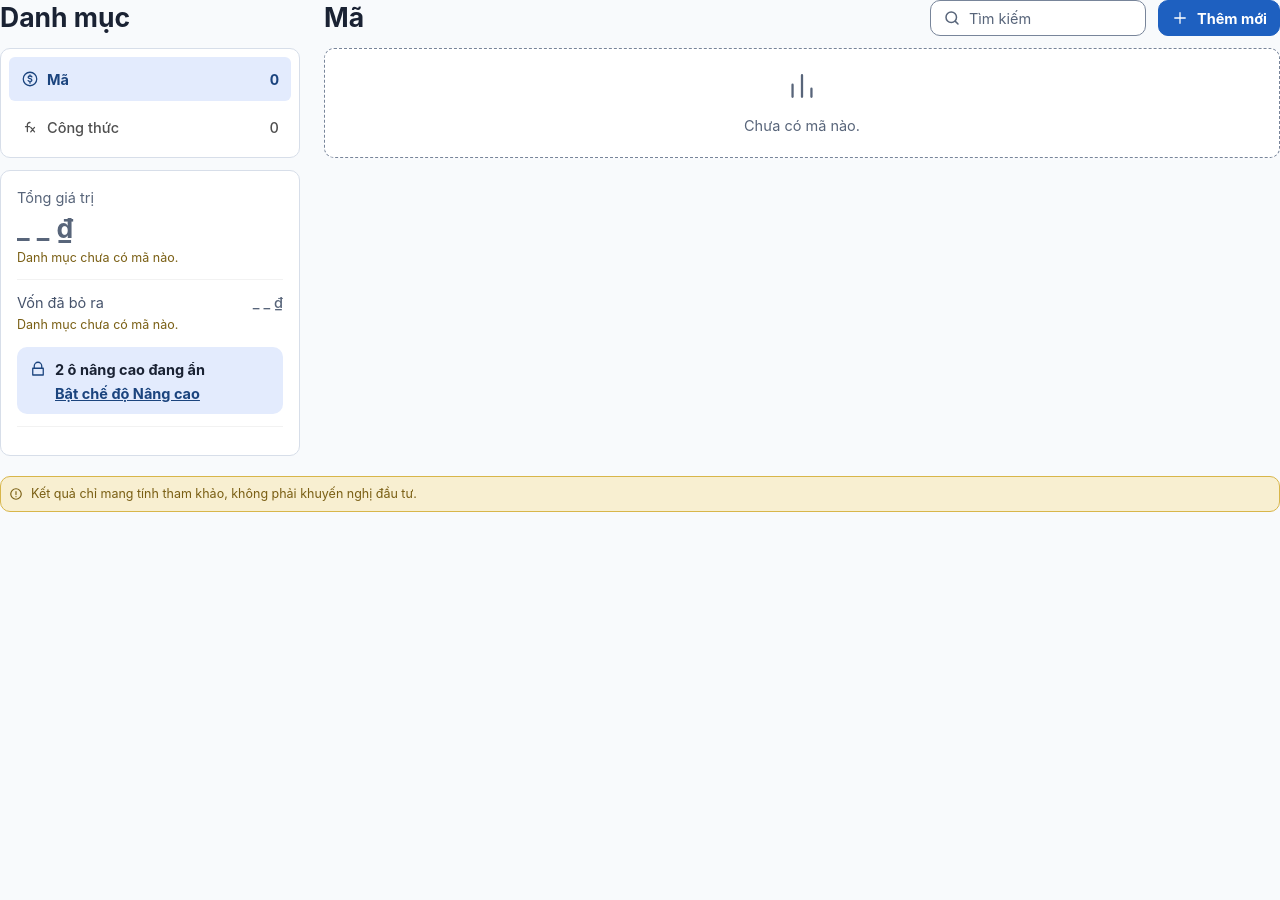
Test: WF-06 — chọn mã trong toàn thị trường › ô chọn mã mở sheet và nhận mã đã chọn
Click the button "Thêm mới" at (1219, 18), box [1158, 0, 1279, 36]
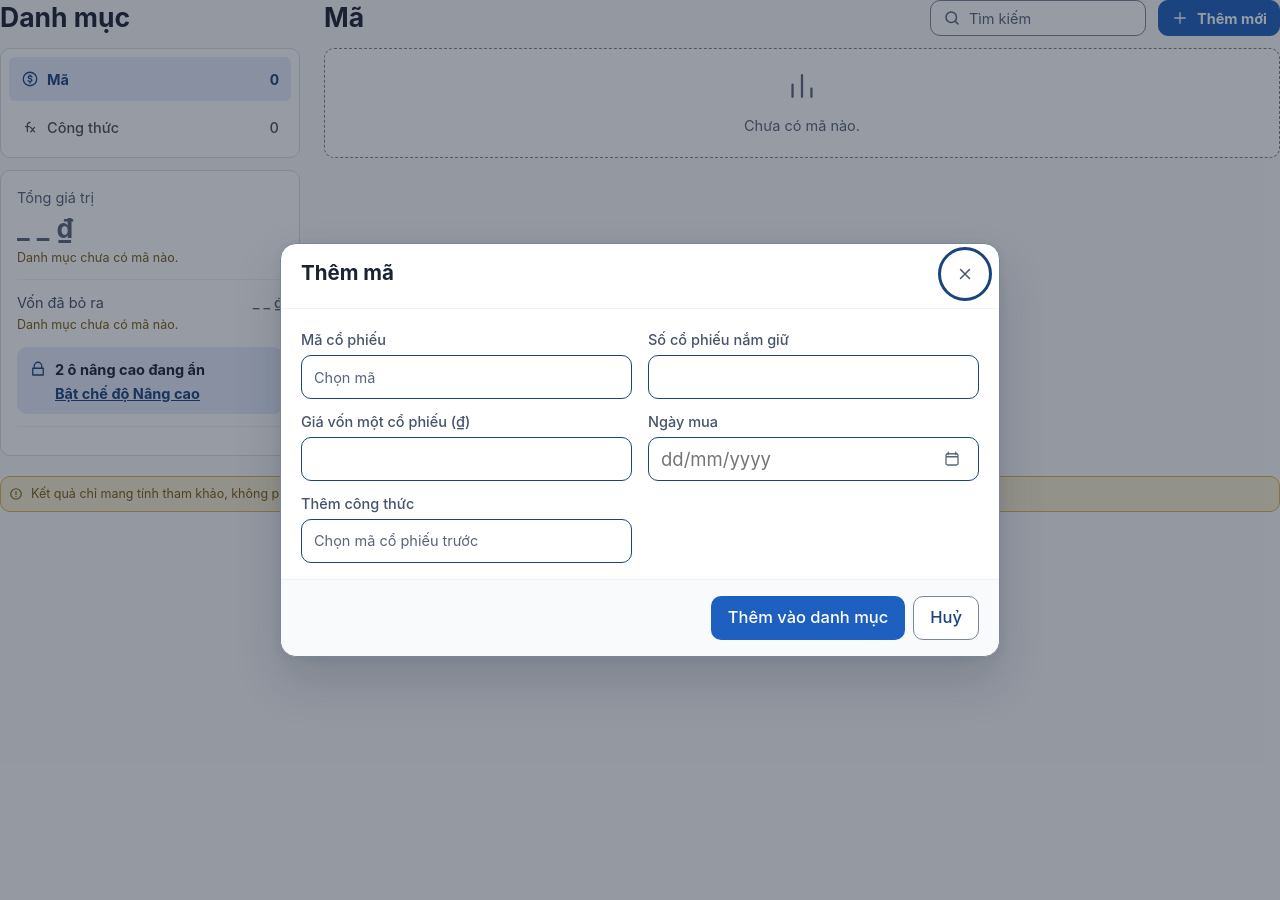
Click the button named "Mã cổ phiếu" at (345, 377), box [301, 355, 632, 399]
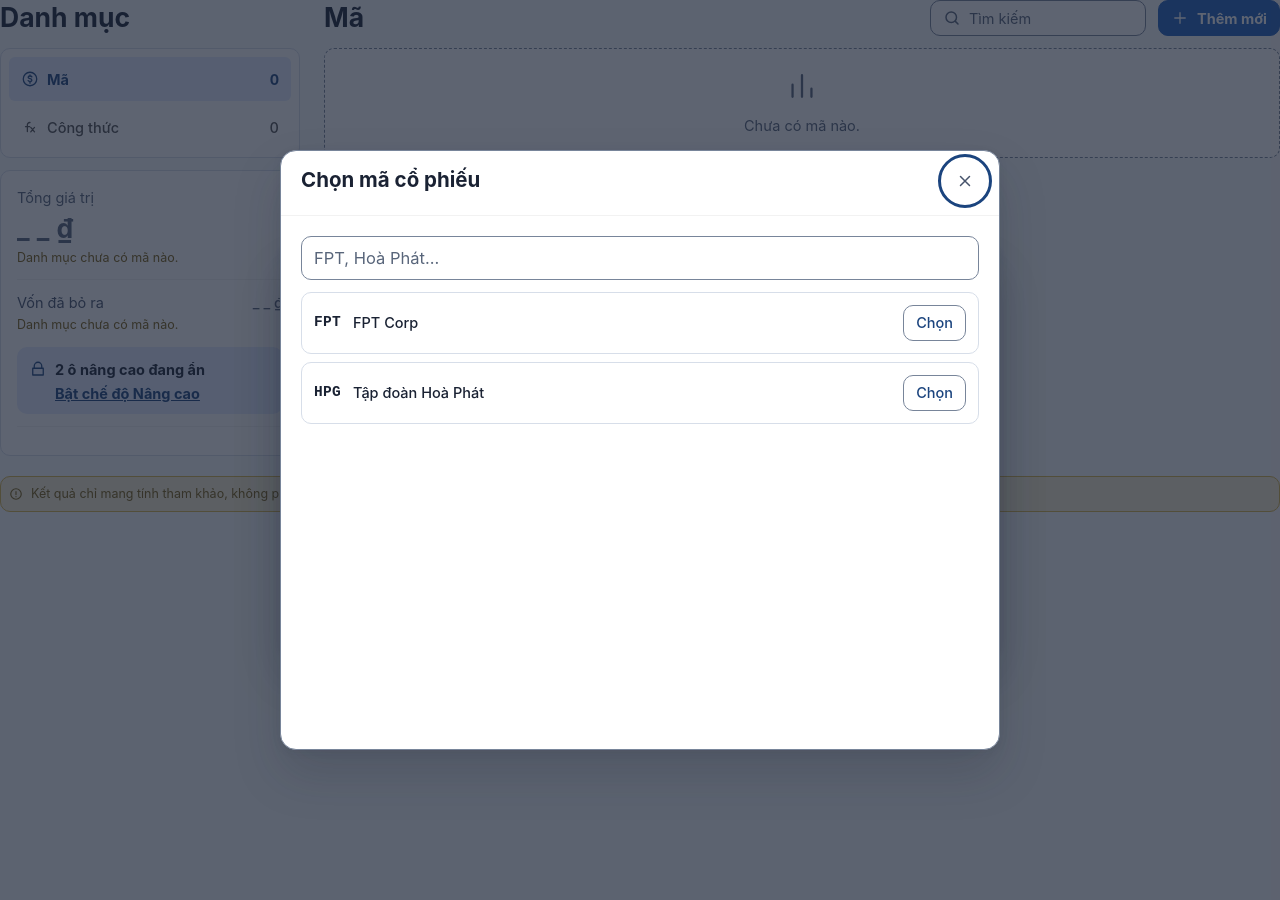
Click the button "Chọn" in the row of "FPT Corp" at (935, 323), box [903, 305, 966, 341]
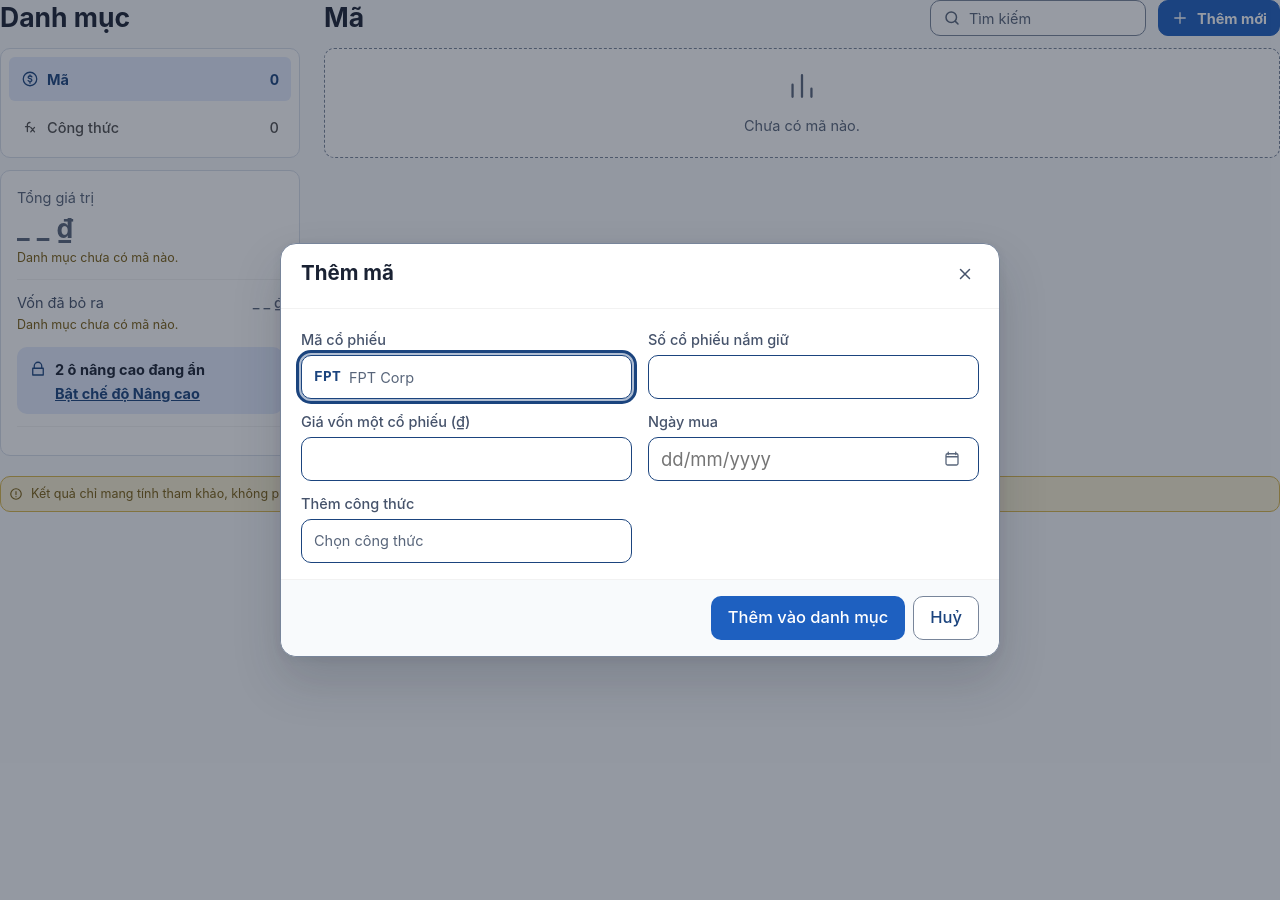
Expected: the button named "Mã cổ phiếu" shows "FPT", [301, 355, 632, 399]
